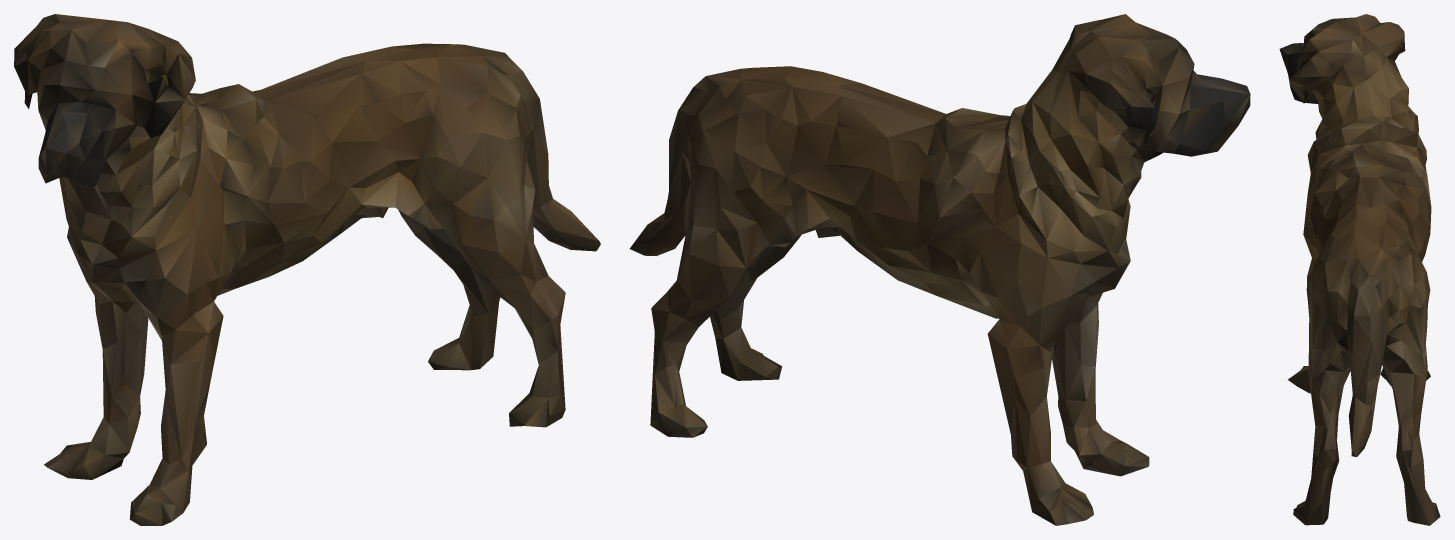
Rendered from dog_standing.glb.
3 views of the same model, side by side, from view 1: azimuth 30°, elevation 25°; view 2: azimuth 150°, elevation 25°; view 3: azimuth 270°, elevation 25° (orthographic). The views are drawn at different scales.
Parts seen in each view (by area): view 1: dog_standing; view 2: dog_standing; view 3: dog_standing.
Boxes of the visible parts, left/top/right/bottom form: dog_standing: left=14, top=14, right=600, bottom=525; dog_standing: left=629, top=14, right=1250, bottom=525; dog_standing: left=1279, top=14, right=1440, bottom=525.
Bounding box in the file's own units: 3.29 × 2.5 × 1.05.
